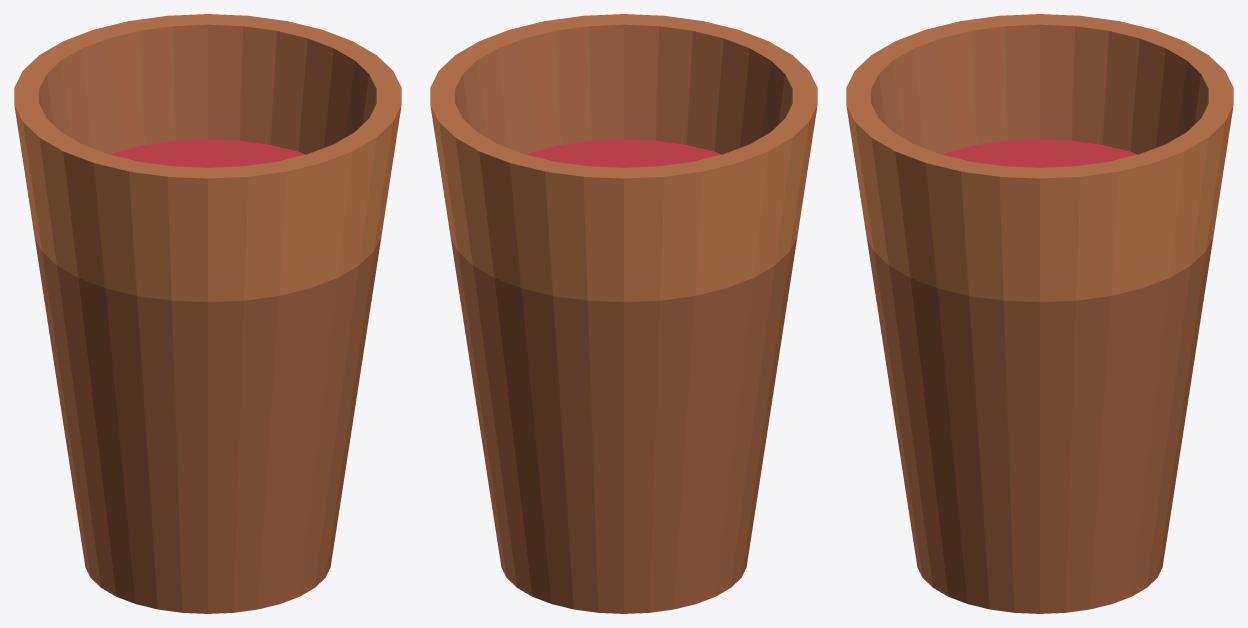
Rendered from Res01_Tumbler1.fbx.
The picture shows the model from 3 angles, left to right: view 1: azimuth 30°, elevation 25°; view 2: azimuth 150°, elevation 25°; view 3: azimuth 270°, elevation 25°; orthographic projection.
Parts seen in each view (by area): view 1: Res01_Tumbler1; view 2: Res01_Tumbler1; view 3: Res01_Tumbler1.
Part boxes in pixels (x1,y1,x2,y2): Res01_Tumbler1: (14,14,401,613); Res01_Tumbler1: (430,14,817,613); Res01_Tumbler1: (846,14,1233,613).
Size of the model in its own units: 48.22 by 63.59 by 47.95.
